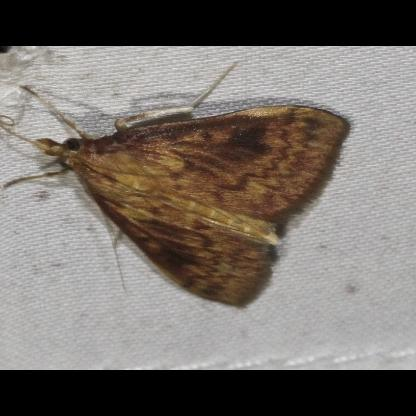Asian Corn Borer Moth: (1, 59, 355, 311)
